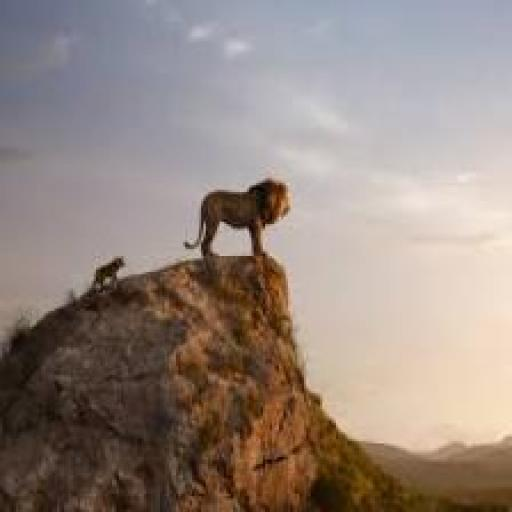lion: (183, 176, 291, 255)
